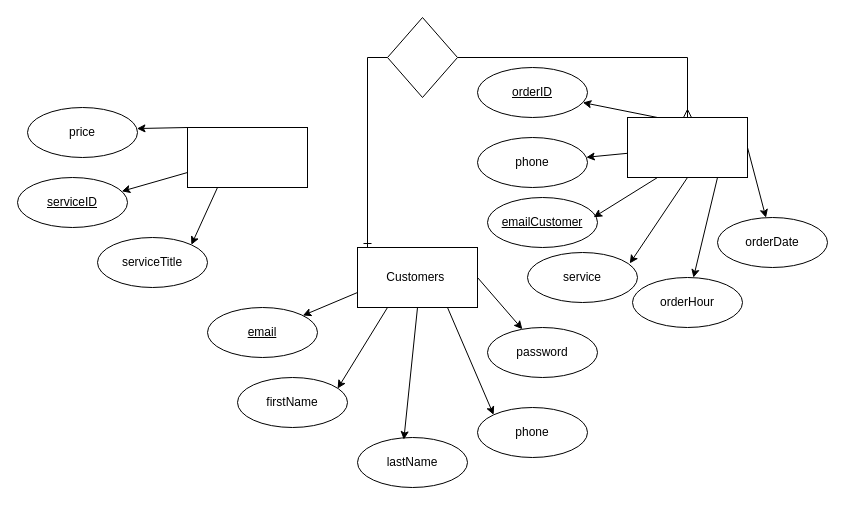
The diagram is 845 pixels wide and 505 high, and some of its shapes have lost their labels. Each missing label, with the box of its shape:
book a queue: (386, 16, 458, 98)
Orders: (626, 116, 748, 178)
Services: (186, 126, 308, 188)
